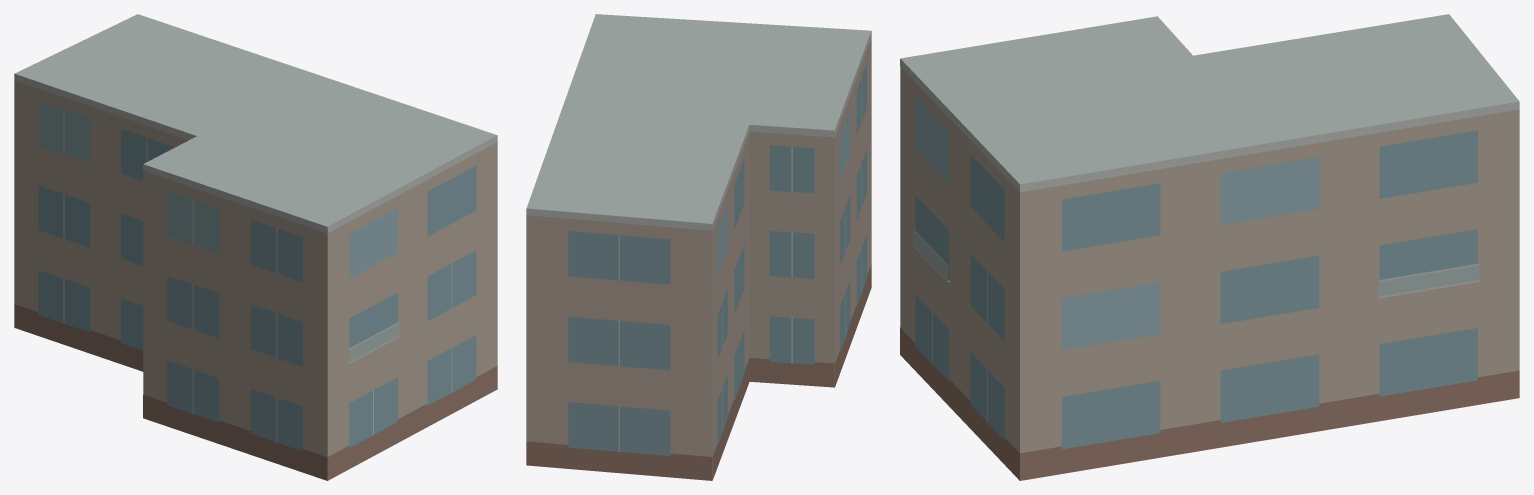
The model's file is survey-upis-32709394.glb.
The picture shows the model from 3 angles, left to right: view 1: azimuth 30°, elevation 25°; view 2: azimuth 150°, elevation 25°; view 3: azimuth 270°, elevation 25°; orthographic projection. The views are drawn at different scales.
Parts seen in each view (by area): view 1: survey-upis-32709394.tmp; view 2: survey-upis-32709394.tmp; view 3: survey-upis-32709394.tmp.
Part boxes in pixels (<box>): survey-upis-32709394.tmp: <box>14,14,497,480</box>; survey-upis-32709394.tmp: <box>526,14,871,480</box>; survey-upis-32709394.tmp: <box>900,14,1519,480</box>.
Size of the model in its own units: 11.29 by 9.15 by 17.34.
